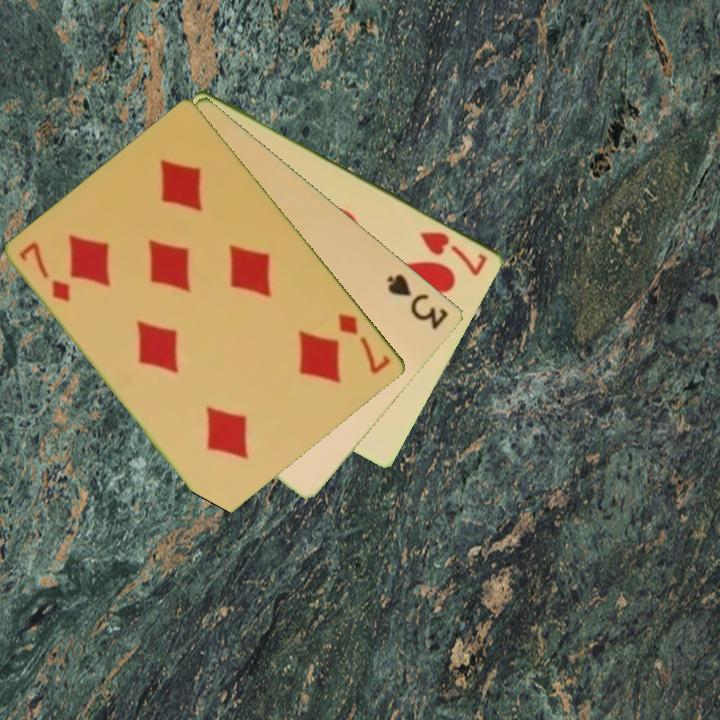3s: (383, 270, 452, 333)
7d: (335, 310, 394, 377), (15, 238, 74, 305)
7h: (416, 227, 491, 279)
